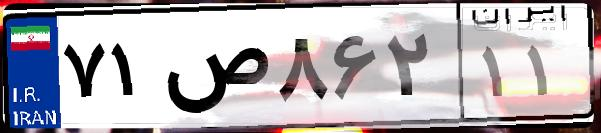1: (475, 38, 525, 113), (525, 38, 570, 115), (110, 28, 158, 98)
2: (385, 28, 445, 110)
6: (330, 28, 385, 110)
7: (57, 26, 110, 100)
8: (270, 28, 330, 110)
ص: (158, 20, 270, 120)
